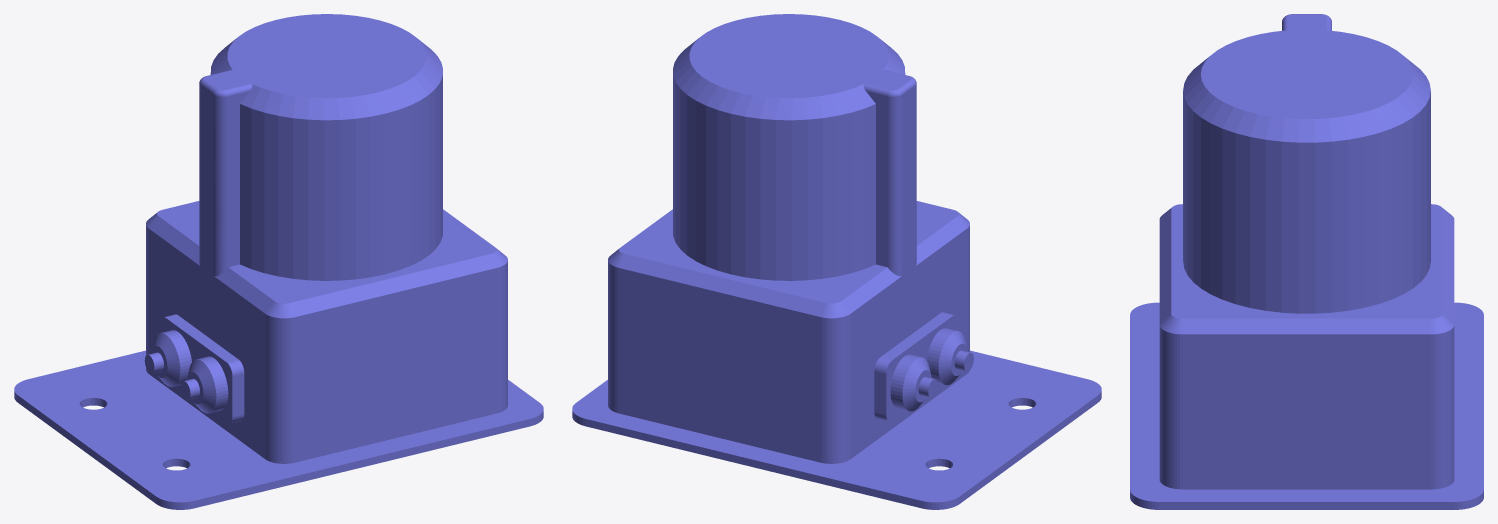
File: rear_lrf.dae
3 renders of one model, left to right at view 1: azimuth 30°, elevation 25°; view 2: azimuth 150°, elevation 25°; view 3: azimuth 270°, elevation 25°, orthographic. The views are drawn at different scales.
Parts seen in each view (by area): view 1: 後方LRF; view 2: 後方LRF; view 3: 後方LRF.
Part boxes in pixels (x1=…): 後方LRF: x1=14, y1=14, x2=543, y2=509; 後方LRF: x1=572, y1=14, x2=1101, y2=509; 後方LRF: x1=1130, y1=14, x2=1483, y2=509.
Size of the model in its own units: 80 by 60 by 67.5.
